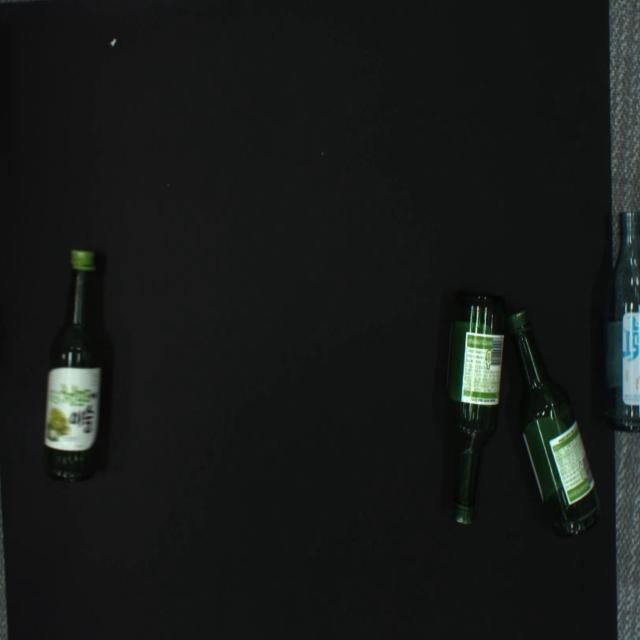soju-bottle: (506, 309, 602, 537), (444, 292, 507, 525), (42, 249, 104, 483), (602, 209, 640, 436)
